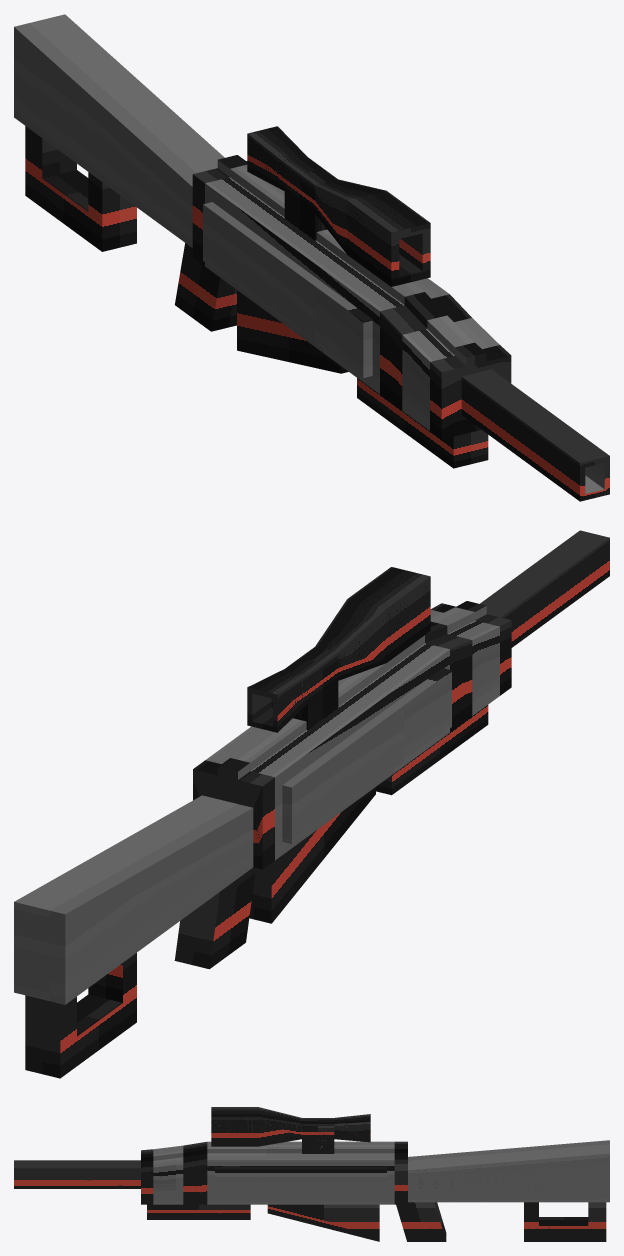
File: Gun-11.fbx
3 views of the same model, one above another, from view 1: azimuth 30°, elevation 25°; view 2: azimuth 150°, elevation 25°; view 3: azimuth 270°, elevation 25° (orthographic). The views are drawn at different scales.
Visible parts, largest first — view 1: Gun-11; view 2: Gun-11; view 3: Gun-11.
Part boxes in pixels (<box>): Gun-11: <box>14,14,609,501</box>; Gun-11: <box>14,530,609,1078</box>; Gun-11: <box>14,1107,609,1241</box>.
Size of the model in its own units: 10.56 by 26.86 by 116.
2 materials, 2 textured.
